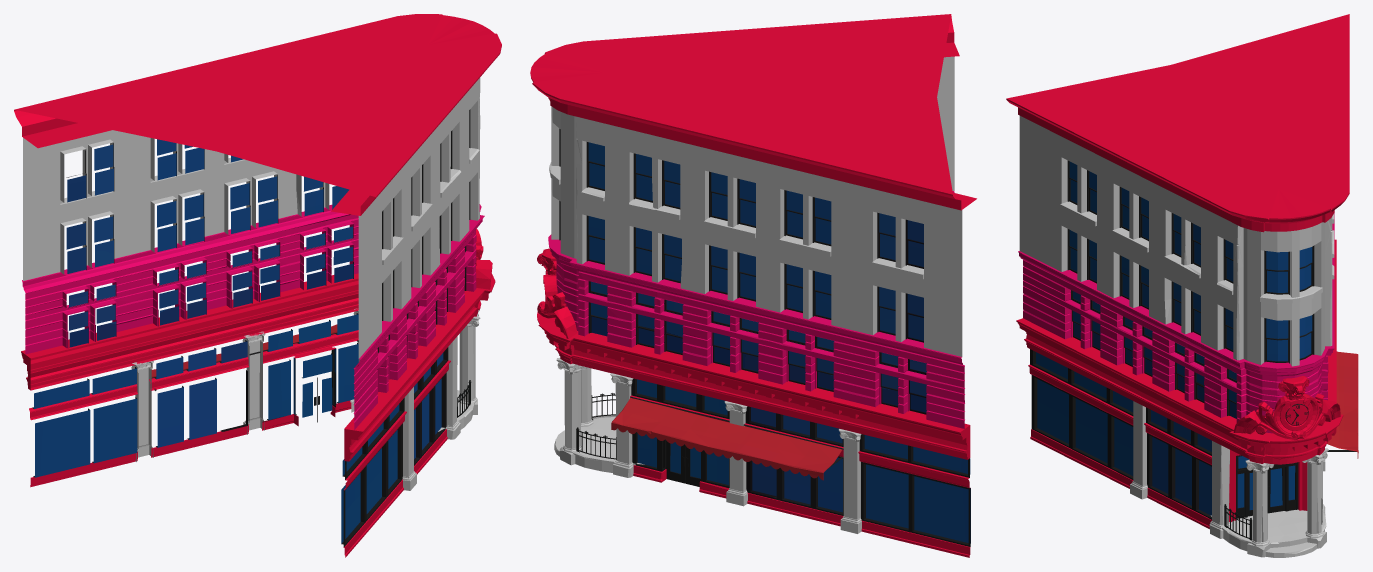
File: Building_Triangle.fbx
3 renders of one model, left to right at view 1: azimuth 30°, elevation 25°; view 2: azimuth 150°, elevation 25°; view 3: azimuth 270°, elevation 25°, orthographic. The views are drawn at different scales.
Visible parts, largest first — view 1: SM_City_Building_Triangle_01.mo; view 2: SM_City_Building_Triangle_01.mo; view 3: SM_City_Building_Triangle_01.mo.
Boxes of the visible parts, left/top/right/bottom form: SM_City_Building_Triangle_01.mo: left=14, top=14, right=501, bottom=557; SM_City_Building_Triangle_01.mo: left=530, top=14, right=976, bottom=557; SM_City_Building_Triangle_01.mo: left=1006, top=14, right=1358, bottom=557.
Size of the model in its own units: 2247 by 1785 by 1632.
